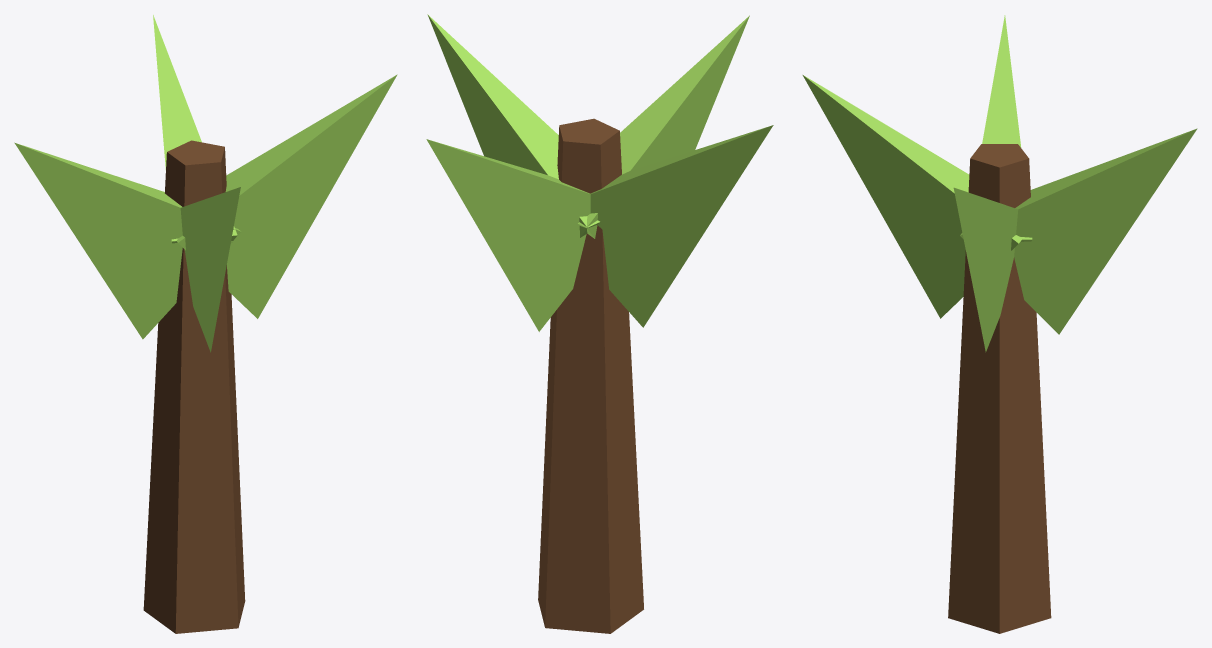
File: orange-1.glb
3 views of the same model, side by side, from view 1: azimuth 30°, elevation 25°; view 2: azimuth 150°, elevation 25°; view 3: azimuth 270°, elevation 25° (orthographic). The views are drawn at different scales.
Parts seen in each view (by area): view 1: orange-1; view 2: orange-1; view 3: orange-1.
Part boxes in pixels (x1,y1,x2,y2): orange-1: [14, 15, 397, 633]; orange-1: [426, 14, 773, 633]; orange-1: [802, 15, 1197, 633].
Size of the model in its own units: 0.1059 by 0.145 by 0.1021.
1 material, 1 textured.
